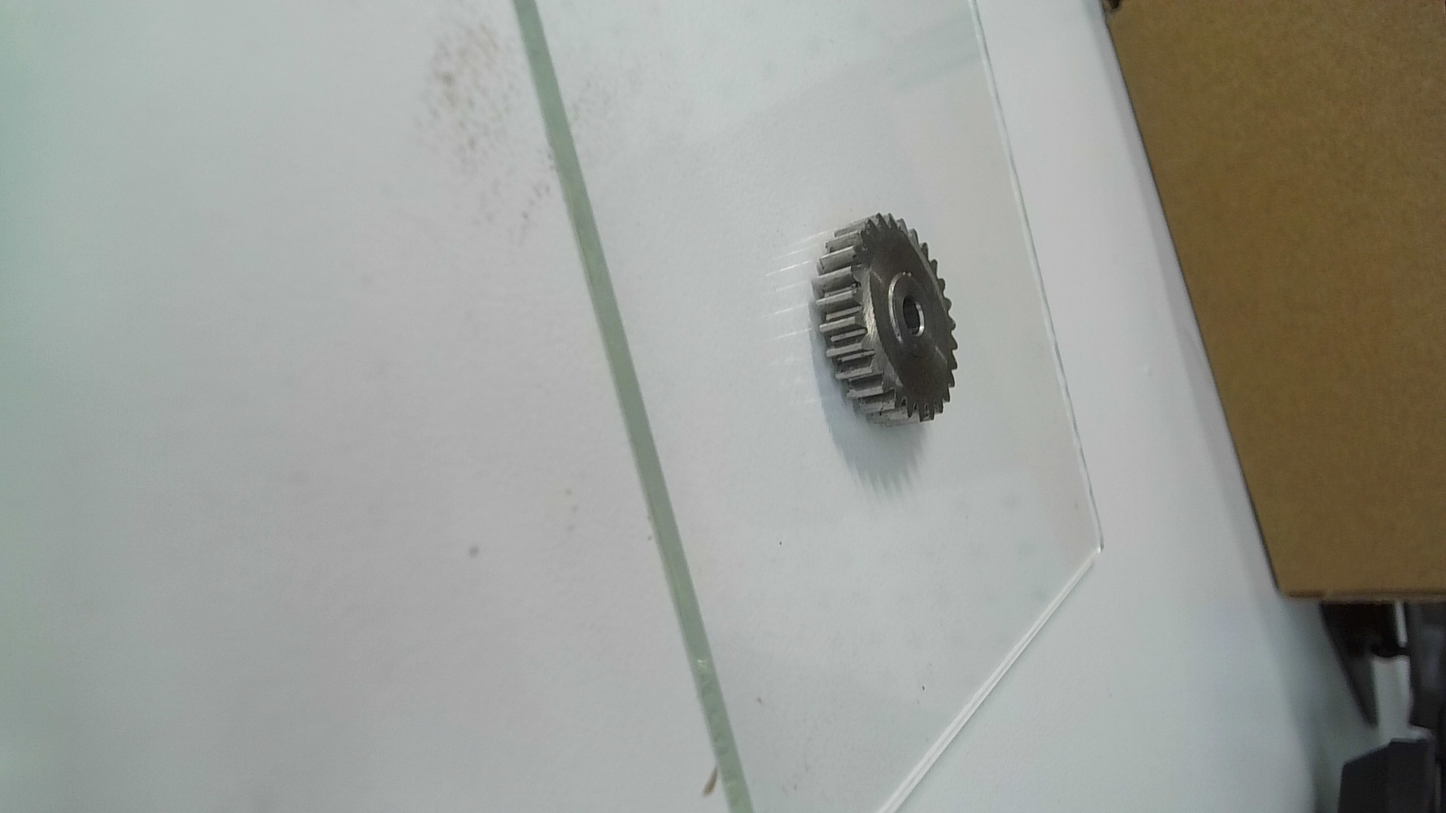gear: (813, 209, 963, 434)
